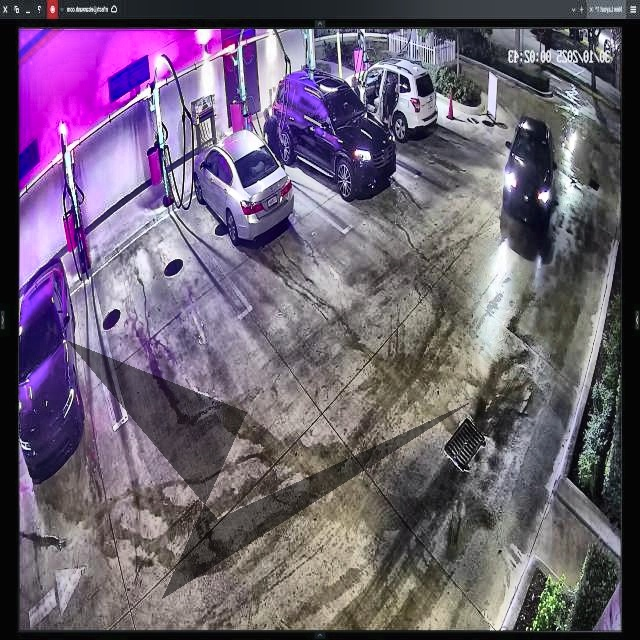Car: (272, 67, 397, 200), (192, 129, 294, 244), (345, 61, 437, 141), (504, 119, 556, 219)
